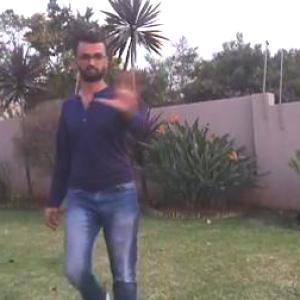follow_hand: (92, 62, 146, 114)
